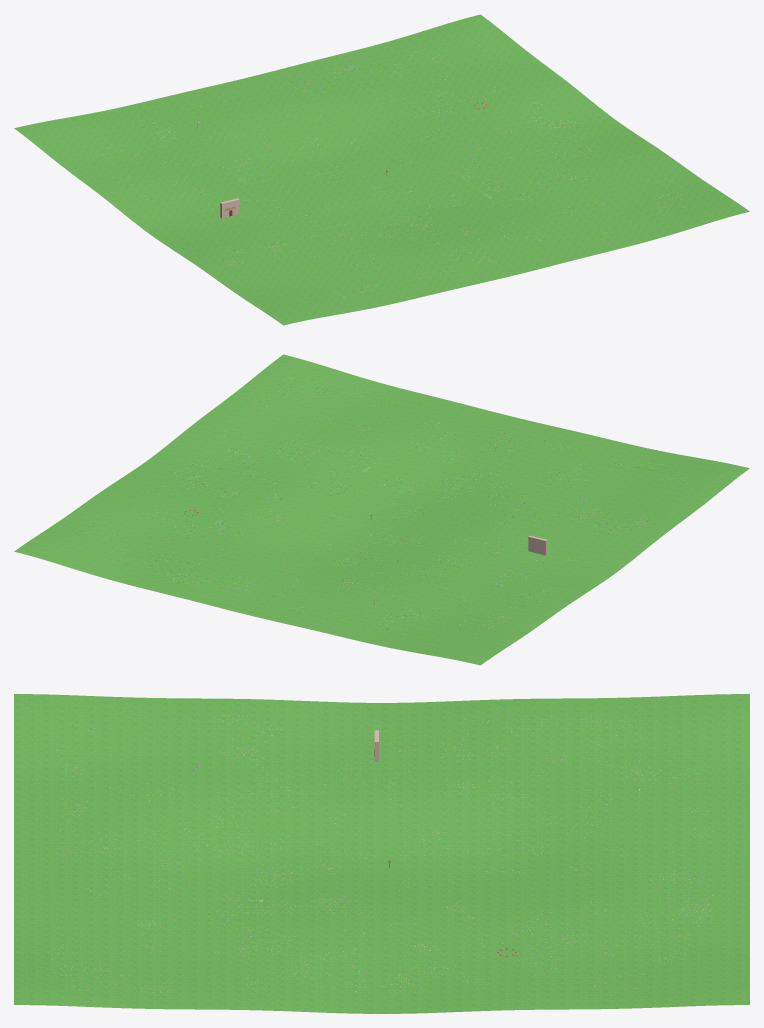
Rendered from endless_hills.glb.
3 renders of one model, top to bottom at view 1: azimuth 30°, elevation 25°; view 2: azimuth 150°, elevation 25°; view 3: azimuth 270°, elevation 25°, orthographic. The views are drawn at different scales.
Visible parts, largest first — view 1: Grass; view 2: Grass; view 3: Grass, Flower_Blue, Flower_White, Flower_Pink, Flower_Yellow.
Part boxes in pixels (left/top/right/bottom): Grass: left=14, top=14, right=749, bottom=325; Grass: left=14, top=354, right=749, bottom=665; Grass: left=14, top=694, right=749, bottom=1013; Flower_Blue: left=55, top=715, right=712, bottom=994; Flower_White: left=52, top=714, right=712, bottom=996; Flower_Pink: left=52, top=714, right=712, bottom=994; Flower_Yellow: left=51, top=713, right=711, bottom=994.
Size of the model in its own units: 200 by 7.72 by 200.
Materials: 16 (6 with a texture image).
